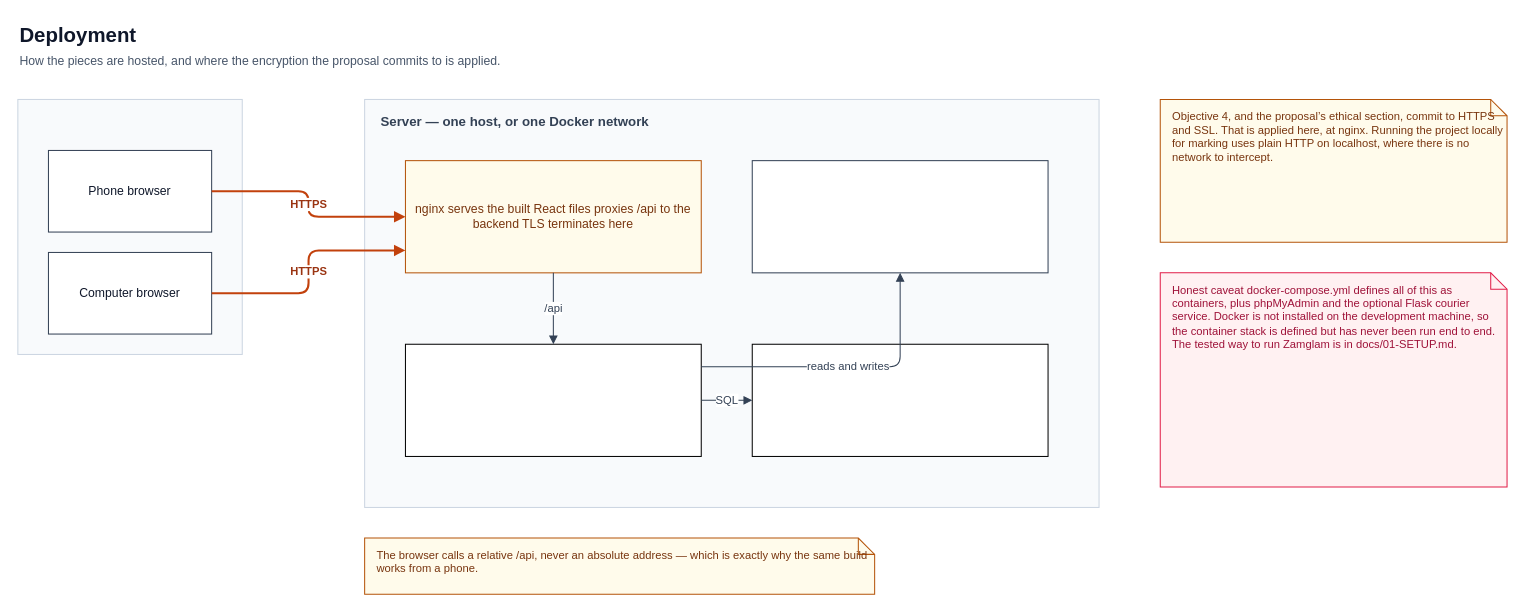
Some shapes in this 1525 by 612 pixel diagram are drawn without their labels. The shapes that lost their labels are listed below. From the top down, each one's box as (x1, y1, x2, y2) in pixels, then its label:
(17, 98, 242, 354): Clients
(751, 160, 1048, 273): uploads/ product photos and registration documents (a mounted volume)
(404, 343, 701, 456): Express node server.js · port 5000 the API, and the hourly sweep
(751, 343, 1048, 456): MySQL / MariaDB port 3306 schema created and migrated by the application
